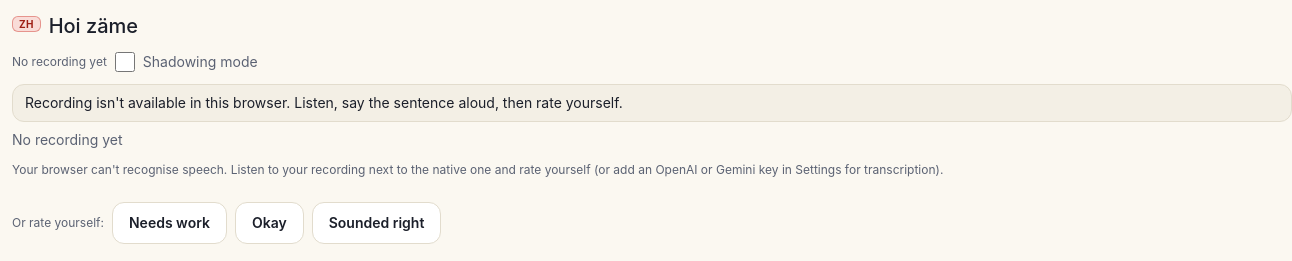
Test: SpeakTask › self-rating: records a speaking attempt that feeds the Swiss band for gsw items
This screenshot has width=1292, height=261.
Click the button "Sounded right" at (376, 223), box top-left (312, 202), bottom-right (441, 244)
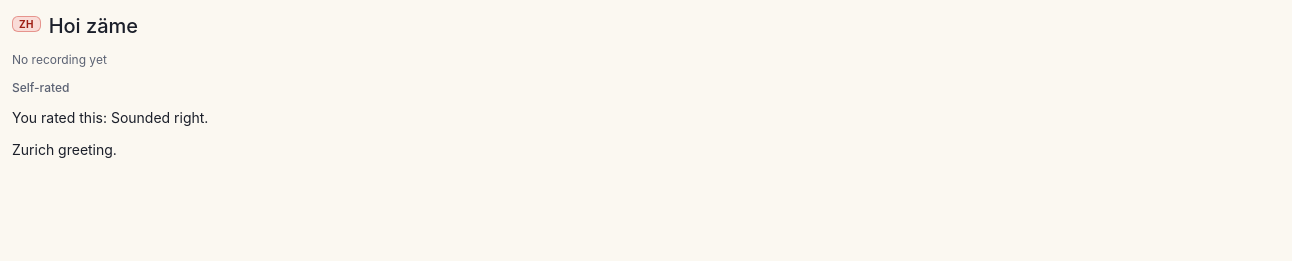
Now the text "Self-rated" is shown, box top-left (12, 80), bottom-right (70, 95)
Now the text "Zurich greeting." is shown, box top-left (12, 141), bottom-right (117, 158)
